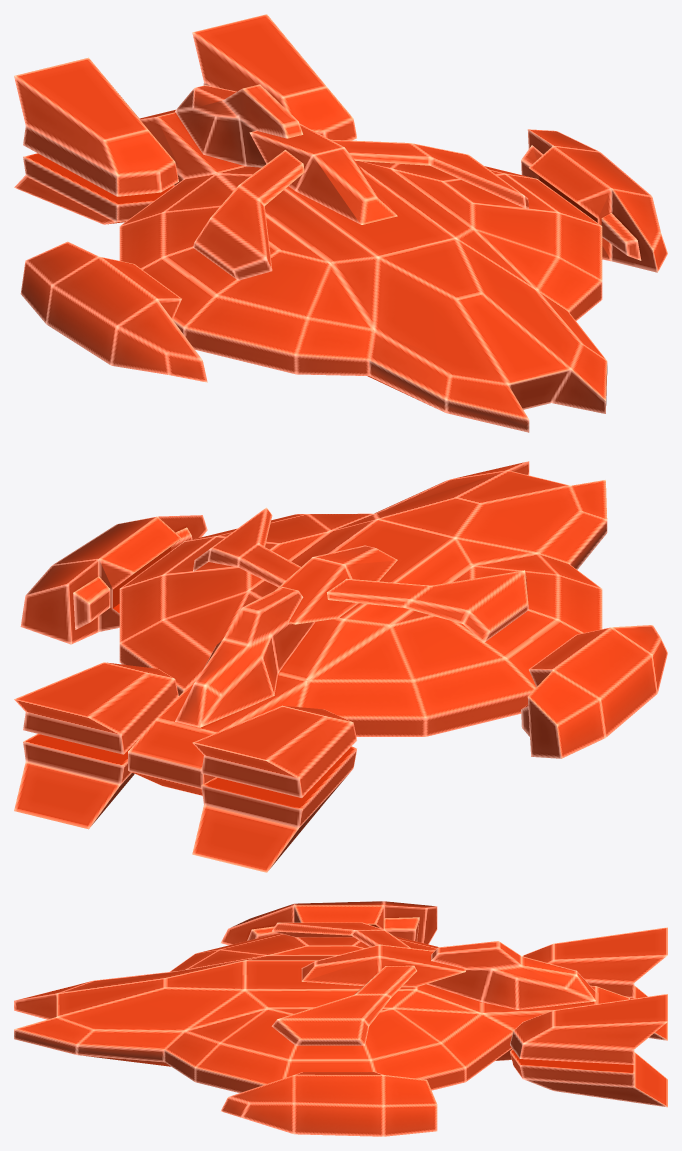
File: enemy_cruiser.FBX
3 views of the same model, one above another, from view 1: azimuth 30°, elevation 25°; view 2: azimuth 150°, elevation 25°; view 3: azimuth 270°, elevation 25° (orthographic). The views are drawn at different scales.
Visible parts, largest first — view 1: Cruiser_enemy; view 2: Cruiser_enemy; view 3: Cruiser_enemy.
Part boxes in pixels (x1,y1,x2,y2): Cruiser_enemy: (14,14,667,432); Cruiser_enemy: (14,461,667,872); Cruiser_enemy: (14,901,667,1136).
Size of the model in its own units: 155 by 40.08 by 205.
